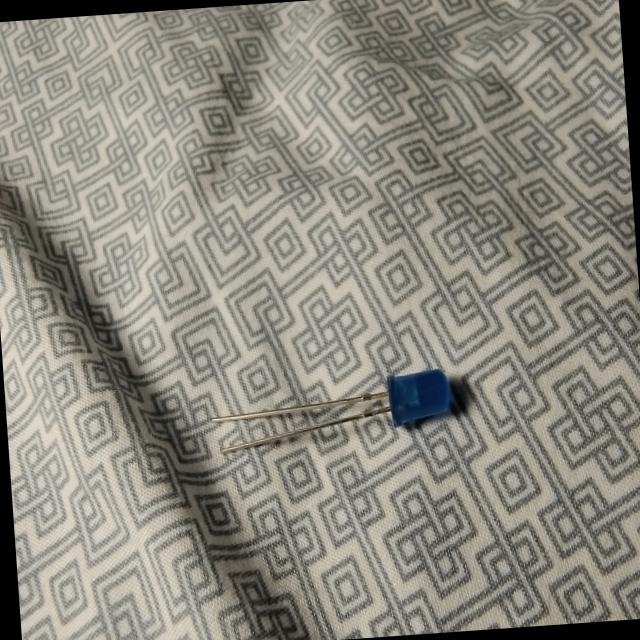blue_led: (386, 366, 454, 428)
